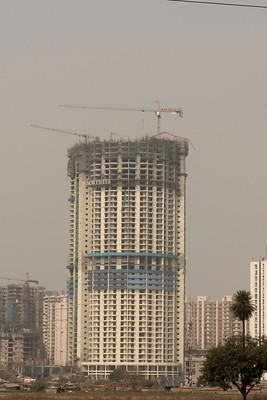low: (61, 133, 187, 390)
